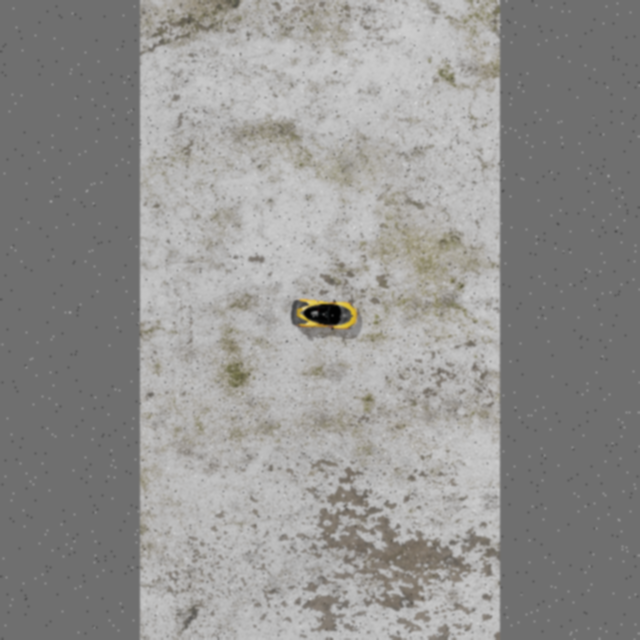car: (289, 297, 358, 332)
